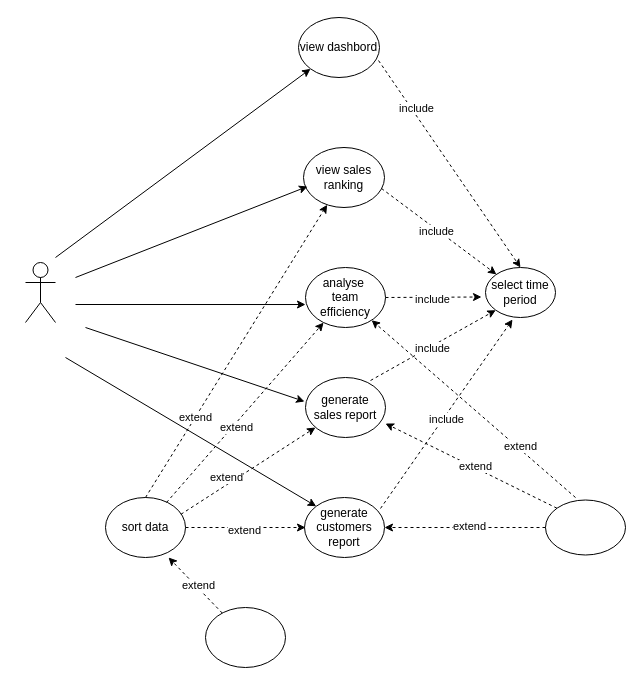
This 643x685 diagram has some shape labels left out. The centre of each missing label's shape, as x and y in pixels:
"export data" belongs at pixel 585 527.
"Manager" belongs at pixel 40 292.
"use tag" belongs at pixel 245 637.
